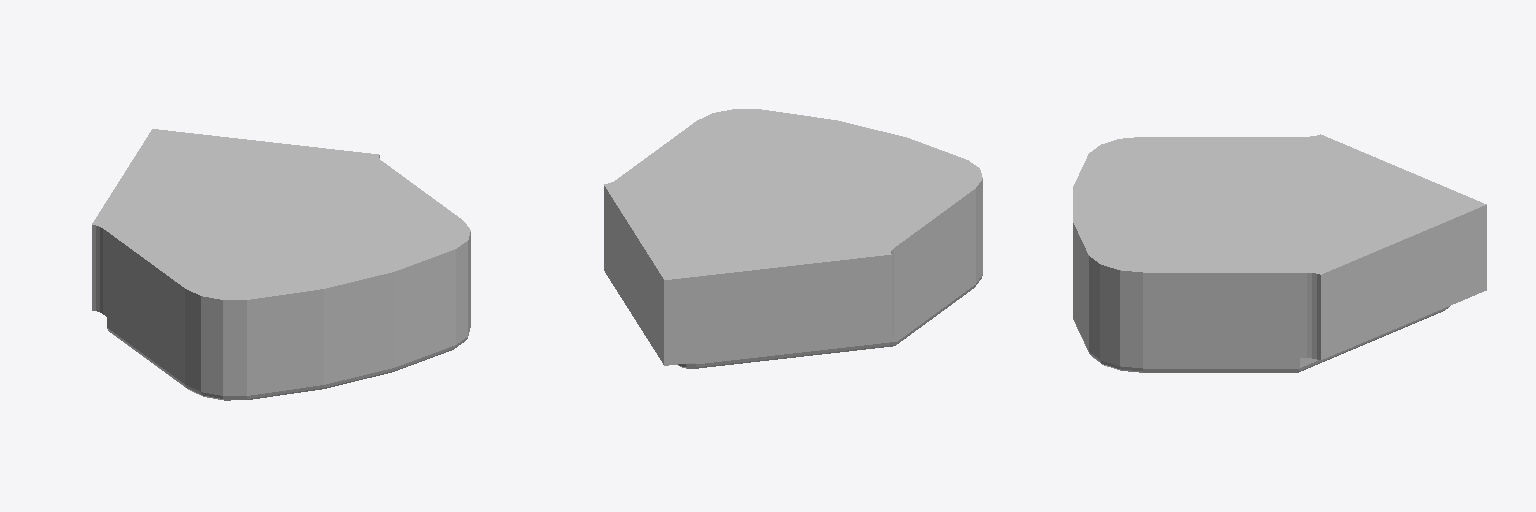
Rendered from DPad-Up.obj.
3 renders of one model, left to right at view 1: azimuth 30°, elevation 25°; view 2: azimuth 150°, elevation 25°; view 3: azimuth 270°, elevation 25°, orthographic.
Visible parts, largest first — view 1: DPad-Up; view 2: DPad-Up; view 3: DPad-Up.
Boxes of the visible parts, <box> form: DPad-Up: <box>92,129,470,400</box>; DPad-Up: <box>604,109,982,368</box>; DPad-Up: <box>1073,134,1486,372</box>.
Size of the model in its own units: 8.79 by 3 by 10.95.